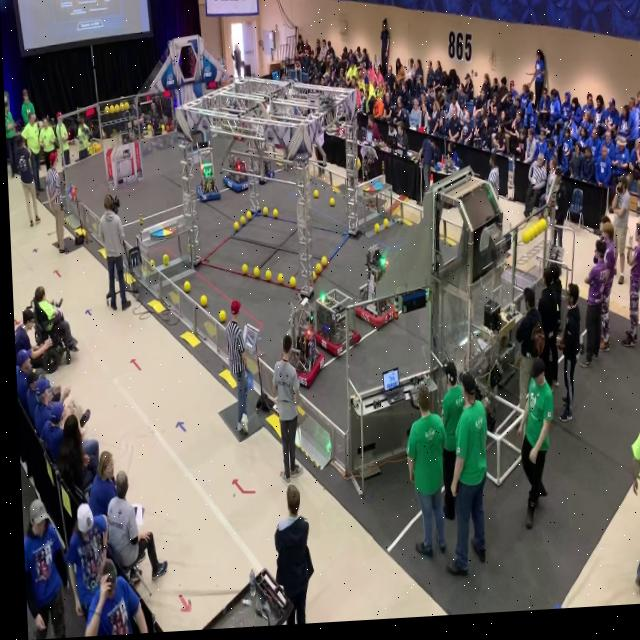robot: (275, 290, 323, 394), (351, 250, 402, 336), (309, 288, 359, 358), (192, 142, 219, 205), (221, 148, 250, 195), (251, 140, 276, 191)
